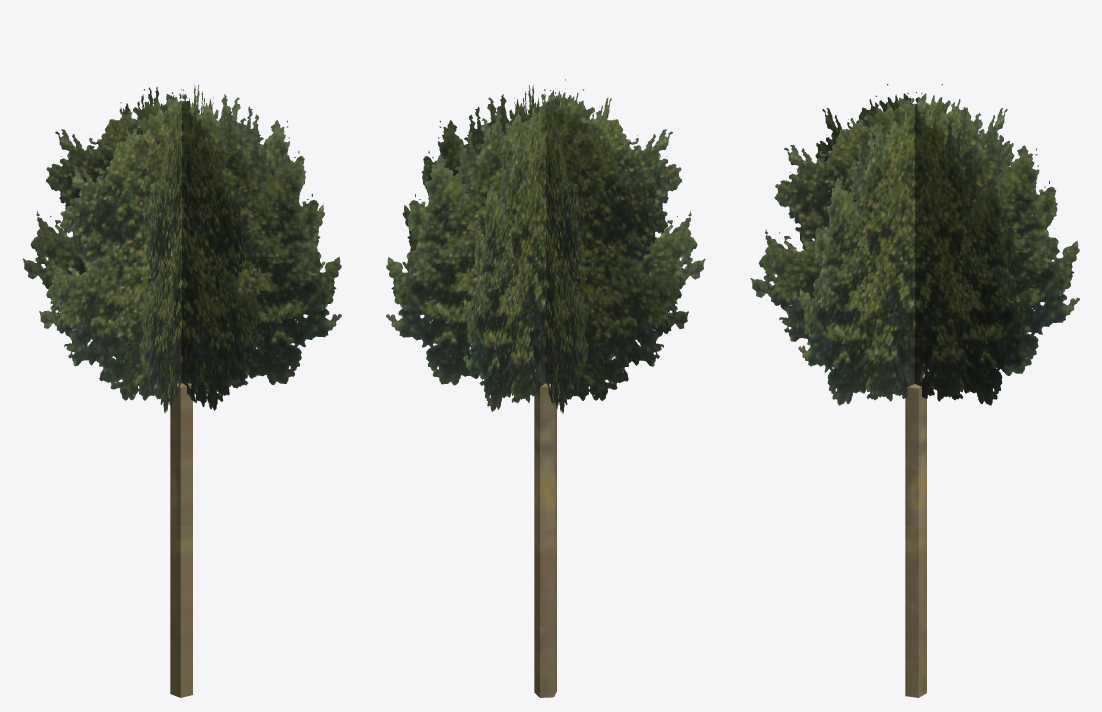
Rendered from Tree4.fbx.
3 renders of one model, left to right at view 1: azimuth 30°, elevation 25°; view 2: azimuth 150°, elevation 25°; view 3: azimuth 270°, elevation 25°, orthographic.
Visible parts, largest first — view 1: Tree4; view 2: Tree4; view 3: Tree4.
Part boxes in pixels (x1,y1,x2,y2): Tree4: [22, 85, 341, 697]; Tree4: [386, 79, 705, 697]; Tree4: [750, 84, 1079, 697].
Size of the model in its own units: 907 by 1755 by 907.
